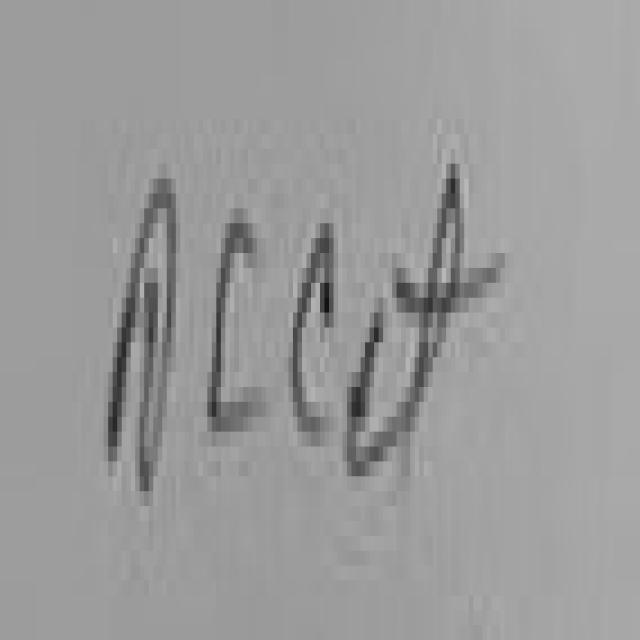A: (96, 99, 194, 562)
c: (279, 164, 341, 497)
e: (338, 273, 394, 519)
l: (204, 178, 277, 482)
t: (393, 71, 491, 557)
